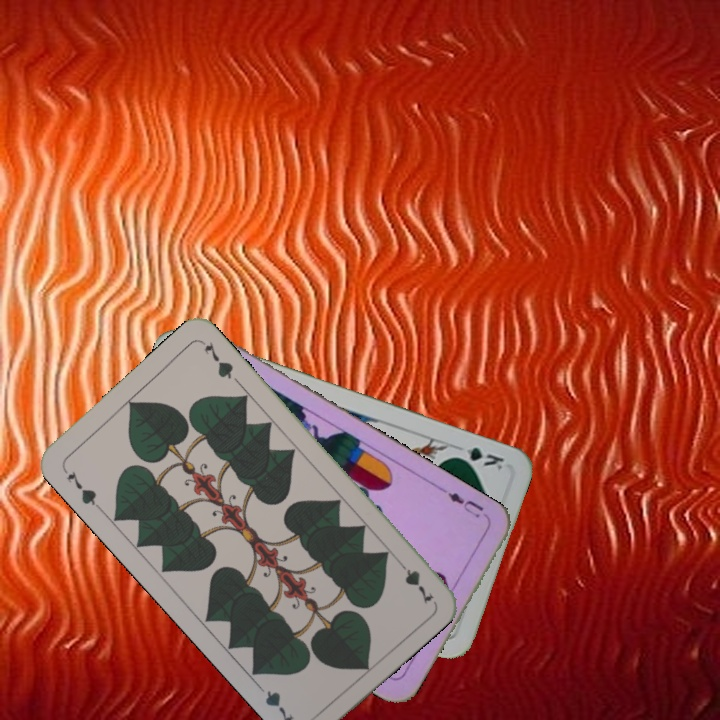EU: (439, 486, 492, 524)
G7: (392, 555, 437, 607), (63, 467, 104, 512)
GK: (449, 441, 507, 474)
